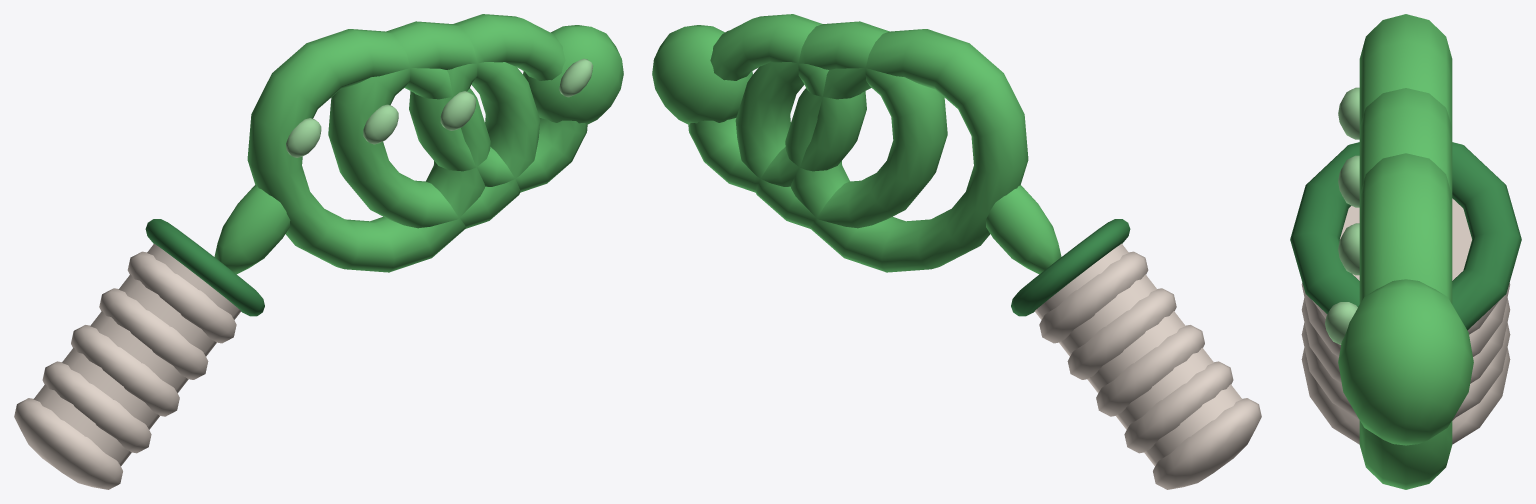
Rendered from jellywhip.glb.
The picture shows the model from 3 angles, left to right: view 1: azimuth 30°, elevation 25°; view 2: azimuth 150°, elevation 25°; view 3: azimuth 270°, elevation 25°; orthographic projection. The views are drawn at different scales.
Visible parts, largest first — view 1: _goo-coils_0, _fluff-grip_0, _goo-tip_0, _goo-collar_0; view 2: _goo-coils_0, _fluff-grip_0, _goo-tip_0, _goo-collar_0; view 3: _goo-coils_0, _goo-tip_0, _goo-collar_0, _fluff-grip_0.
Part boxes in pixels (box(x1,y1,x2,y2)): _goo-coils_0: box(214, 14, 587, 274); _fluff-grip_0: box(14, 243, 241, 489); _goo-tip_0: box(523, 25, 623, 124); _goo-collar_0: box(145, 219, 264, 316); _goo-coils_0: box(688, 14, 1061, 274); _fluff-grip_0: box(1034, 243, 1261, 489); _goo-tip_0: box(652, 25, 752, 124); _goo-collar_0: box(1011, 219, 1130, 316); _goo-coils_0: box(1338, 14, 1452, 489); _goo-tip_0: box(1325, 279, 1473, 445); _goo-collar_0: box(1290, 142, 1521, 330); _fluff-grip_0: box(1301, 198, 1510, 444).
Size of the model in its own units: 0.8143 by 0.5084 by 0.175.
